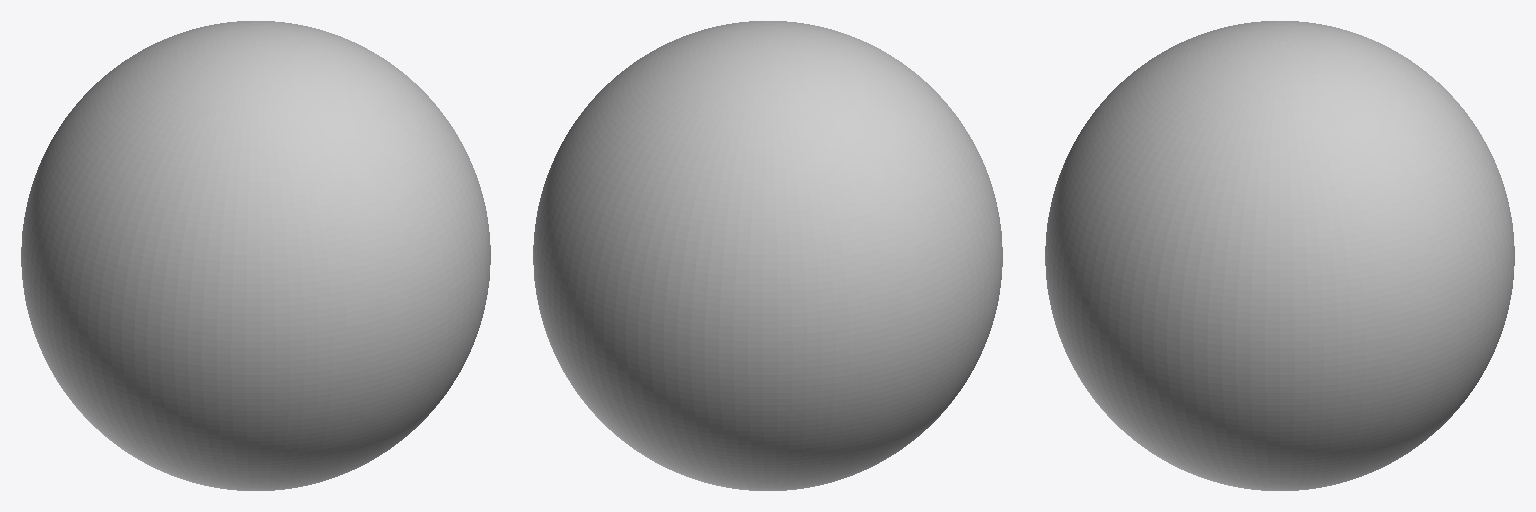
Rendered from venus.obj.
3 views of the same model, side by side, from view 1: azimuth 30°, elevation 25°; view 2: azimuth 150°, elevation 25°; view 3: azimuth 270°, elevation 25° (orthographic).
Parts seen in each view (by area): view 1: Venus_Sphere.010; view 2: Venus_Sphere.010; view 3: Venus_Sphere.010.
Part boxes in pixels (left/top/right/bottom): Venus_Sphere.010: left=21, top=21, right=490, bottom=490; Venus_Sphere.010: left=533, top=21, right=1002, bottom=490; Venus_Sphere.010: left=1045, top=21, right=1514, bottom=490.
Bounding box in the file's own units: 1.99 × 2 × 1.99.